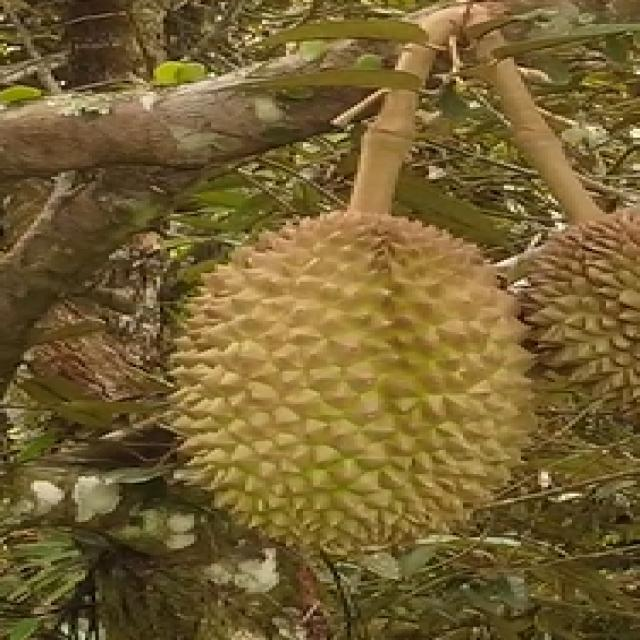mature: (182, 204, 537, 562)
